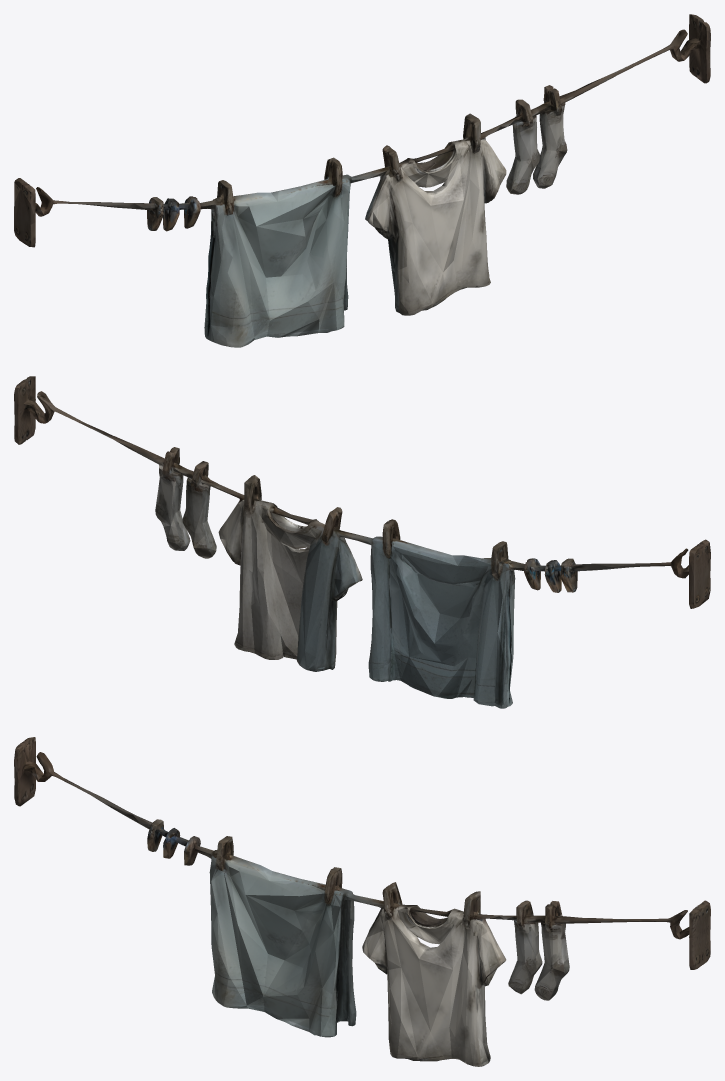
The model's file is Laundry Line.fbx.
The picture shows the model from 3 angles, top to bottom: view 1: azimuth 30°, elevation 25°; view 2: azimuth 150°, elevation 25°; view 3: azimuth 330°, elevation 25°; orthographic projection.
Parts seen in each view (by area): view 1: node_0; view 2: node_0; view 3: node_0.
Boxes of the visible parts, box(x1,y1,x2,y2) form: node_0: box(14, 14, 710, 347); node_0: box(14, 376, 710, 708); node_0: box(14, 737, 710, 1066).
Bounding box in the file's own units: 1.15 × 0.3524 × 0.0523.
Materials: 1 (1 with a texture image).
